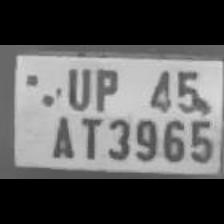3: (103, 113, 131, 162)
4: (143, 66, 173, 112)
5: (184, 111, 214, 165), (172, 68, 208, 112)
6: (159, 114, 186, 164)
9: (130, 114, 158, 162)
A: (45, 110, 77, 160)
P: (90, 64, 122, 110)
T: (76, 112, 102, 160)
U: (61, 65, 91, 109)
